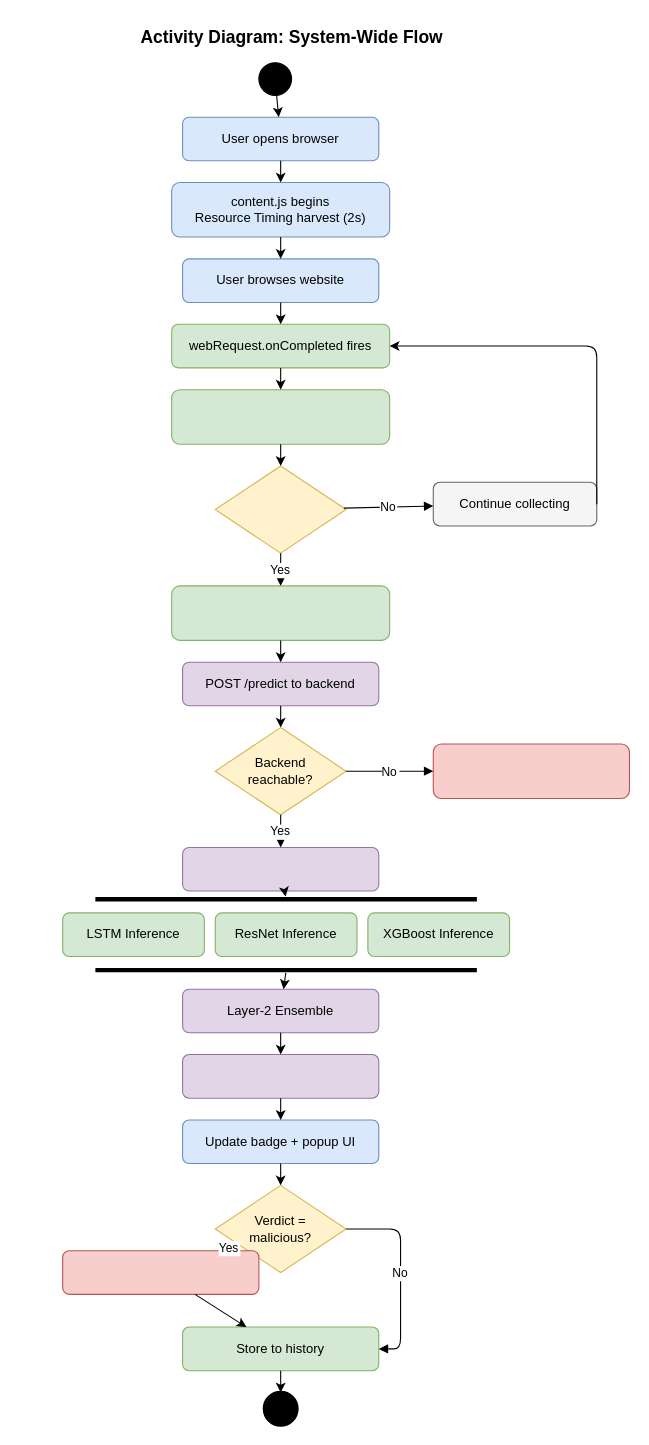
Image size: 649x1445. Some labels were removed from this diagram. Each missing label, with the box of its shape:
background.js adds packet to SessionManager: (171, 389, 390, 444)
Feature Transformation: (181, 846, 379, 891)
FeatureEngineer builds session payload: (171, 585, 390, 640)
Queue session, show offline indicator, retry: (432, 743, 629, 798)
Return verdict JSON: (181, 1053, 379, 1098)
Show browser notification: (62, 1250, 259, 1294)
≥15 pkts OR idle >30s?: (214, 465, 346, 553)
